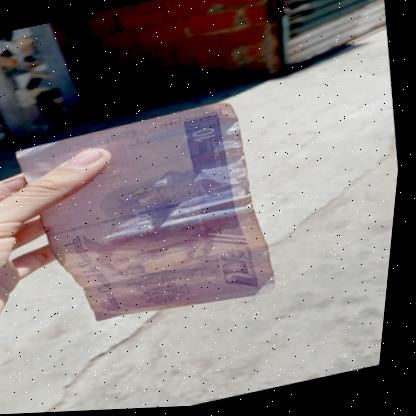ten-back-vef: (1, 96, 296, 348)
